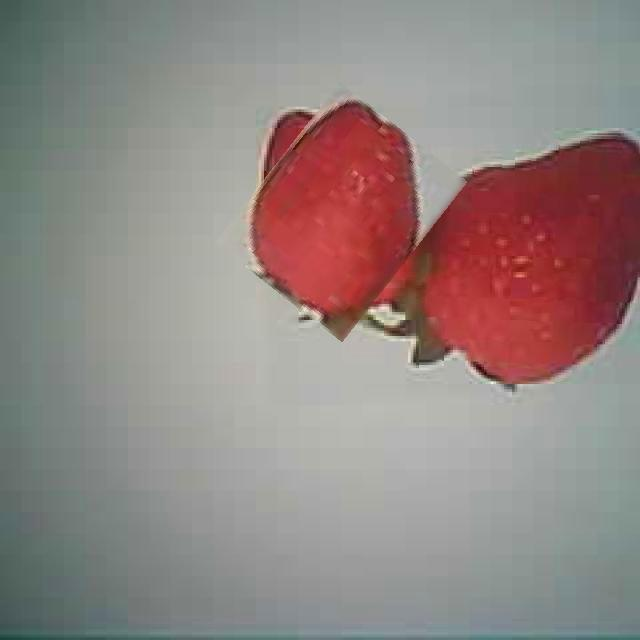strawberry: (421, 131, 640, 382), (237, 96, 445, 328)
